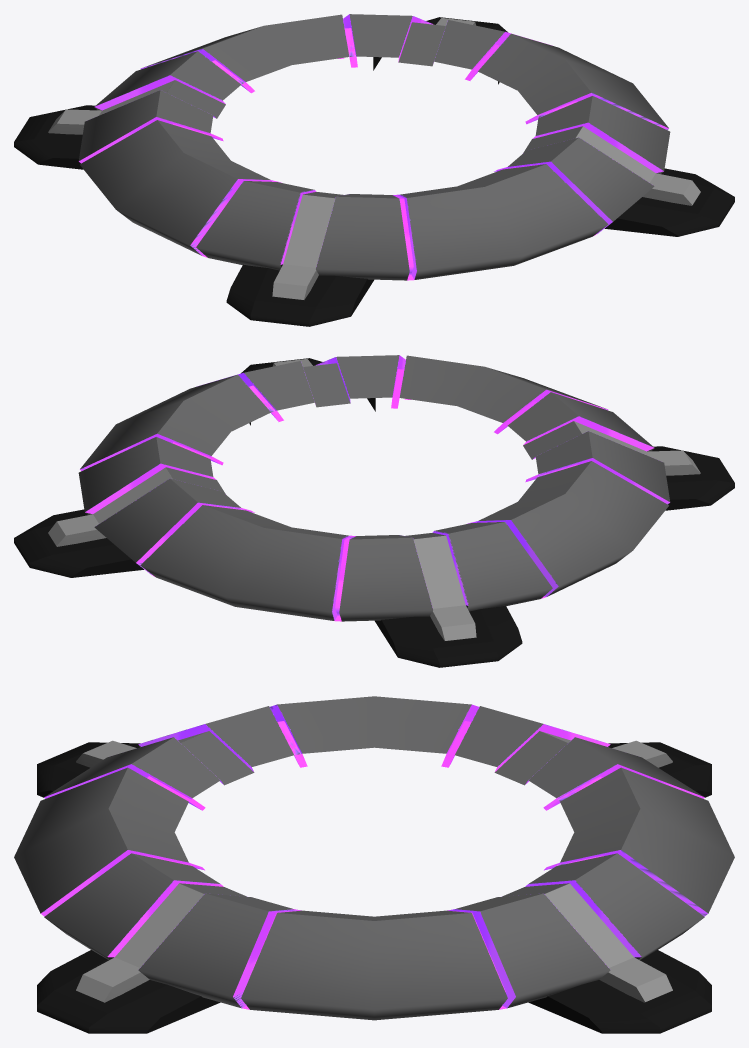
File: ButtonBaseHexagon.glb
3 renders of one model, top to bottom at view 1: azimuth 30°, elevation 25°; view 2: azimuth 150°, elevation 25°; view 3: azimuth 270°, elevation 25°, orthographic. The views are drawn at different scales.
Parts seen in each view (by area): view 1: Cube.012; view 2: Cube.012; view 3: Cube.012.
Boxes of the visible parts, x1,y1,x2,y2 form: Cube.012: [14, 14, 734, 326]; Cube.012: [14, 355, 734, 667]; Cube.012: [14, 696, 734, 1033].
Size of the model in its own units: 2.03 by 0.2674 by 2.03.
Materials: 1 (1 with a texture image).
